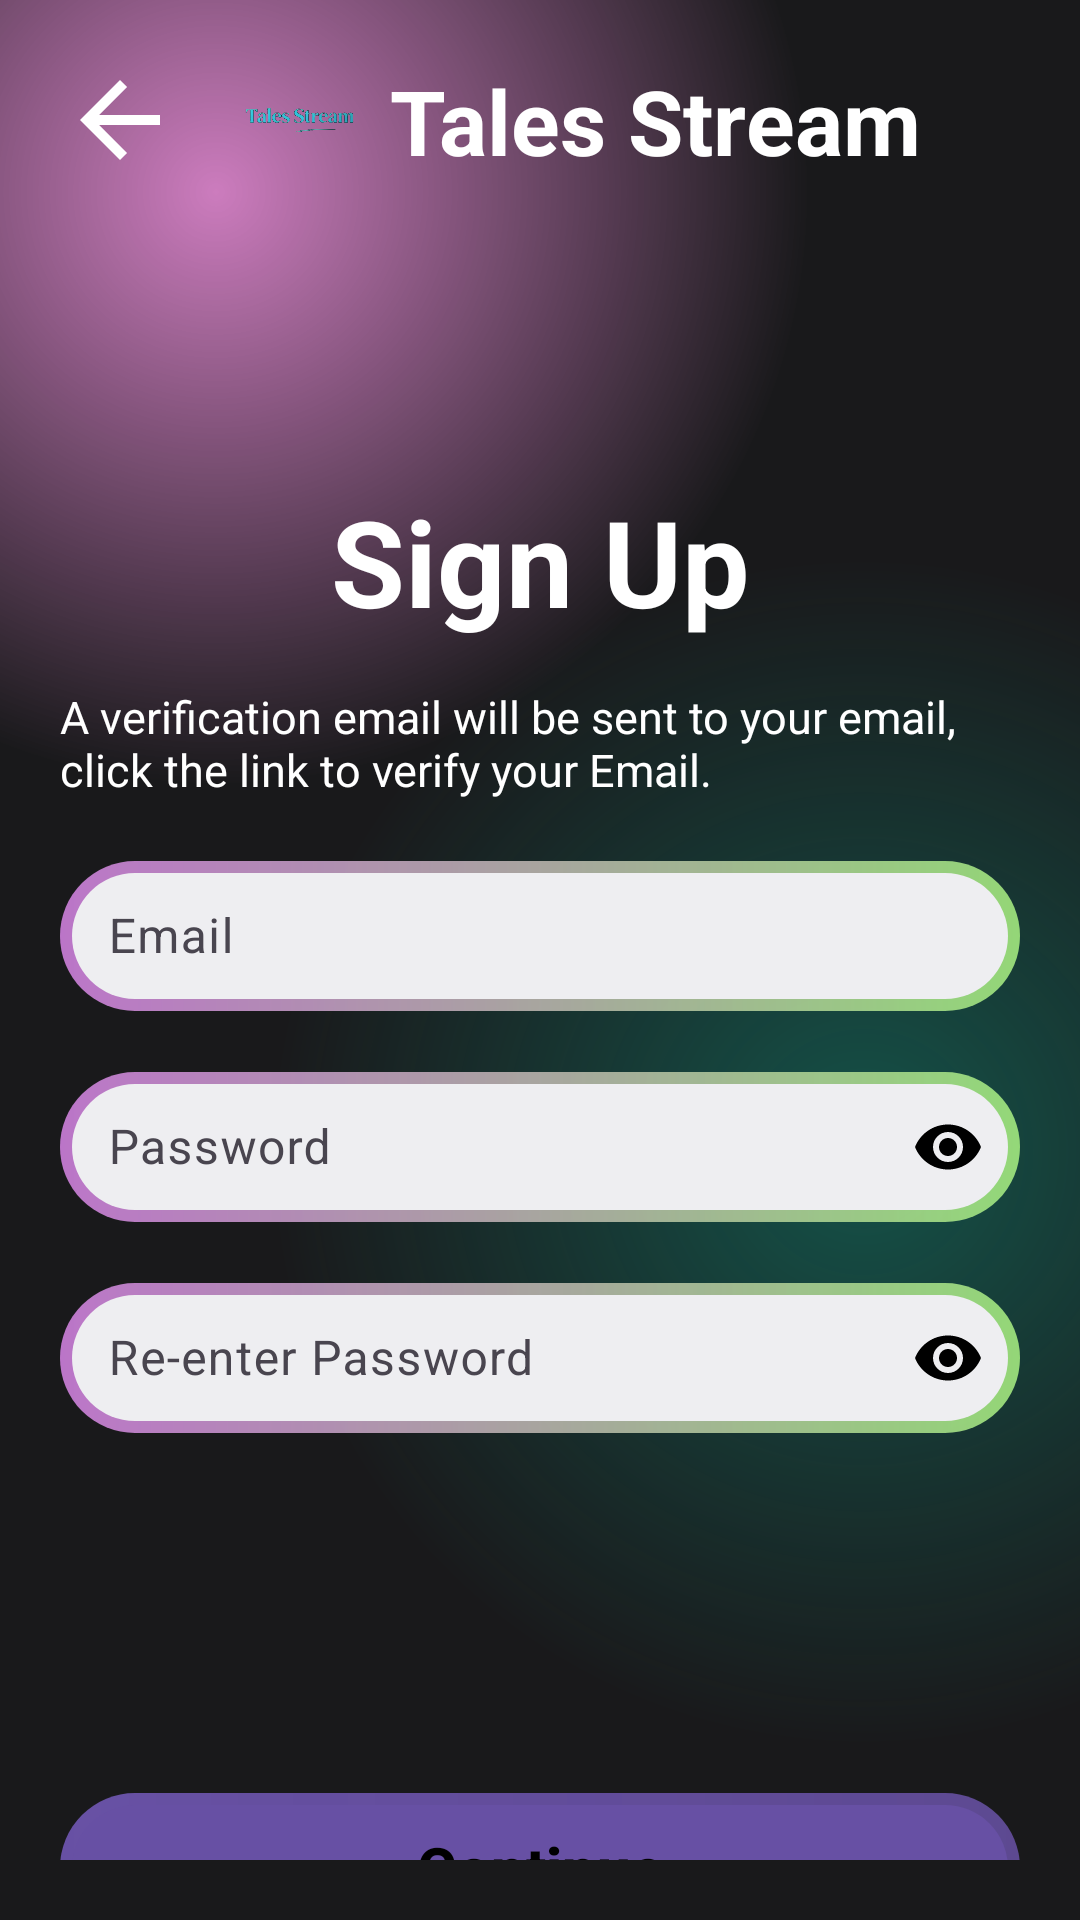

Where to tap for icons on this 1080 × 1920 app screen, as (x,y):
back: (130,130)
